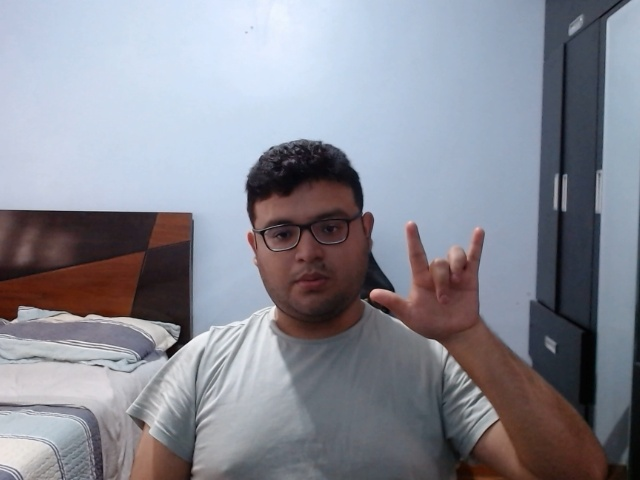I love you: (369, 215, 498, 344)
